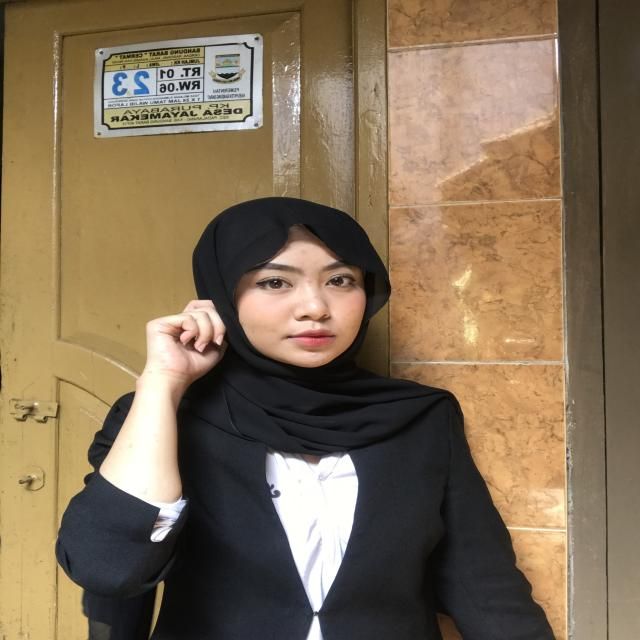ibu: (116, 282, 237, 462)
